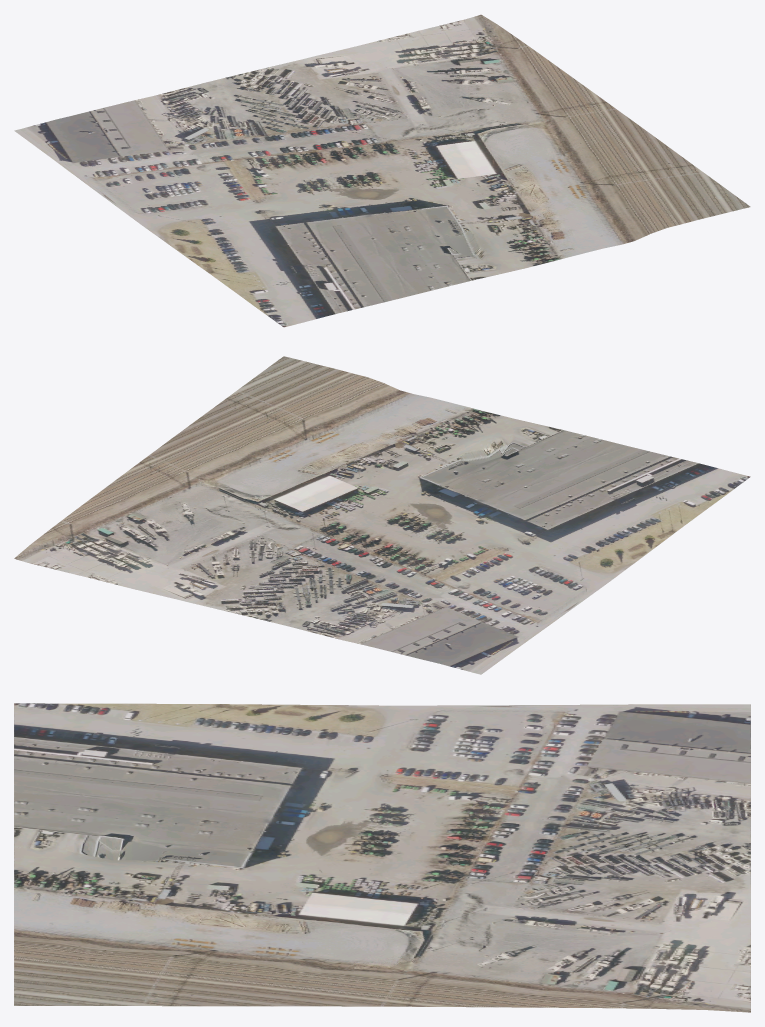
Rendered from CM_Terrain_24487592_6818975.fbx.
3 views of the same model, one above another, from view 1: azimuth 30°, elevation 25°; view 2: azimuth 150°, elevation 25°; view 3: azimuth 270°, elevation 25° (orthographic). The views are drawn at different scales.
Parts seen in each view (by area): view 1: CM_Terrain_24487592_6818975_LOD0; view 2: CM_Terrain_24487592_6818975_LOD0; view 3: CM_Terrain_24487592_6818975_LOD0.
Part boxes in pixels (box(x1,y1,x2,y2)): CM_Terrain_24487592_6818975_LOD0: box(14, 14, 750, 327); CM_Terrain_24487592_6818975_LOD0: box(14, 356, 750, 674); CM_Terrain_24487592_6818975_LOD0: box(14, 703, 750, 1012).
Size of what is drawn, in the model's own units: 205 by 8.84 by 205.
